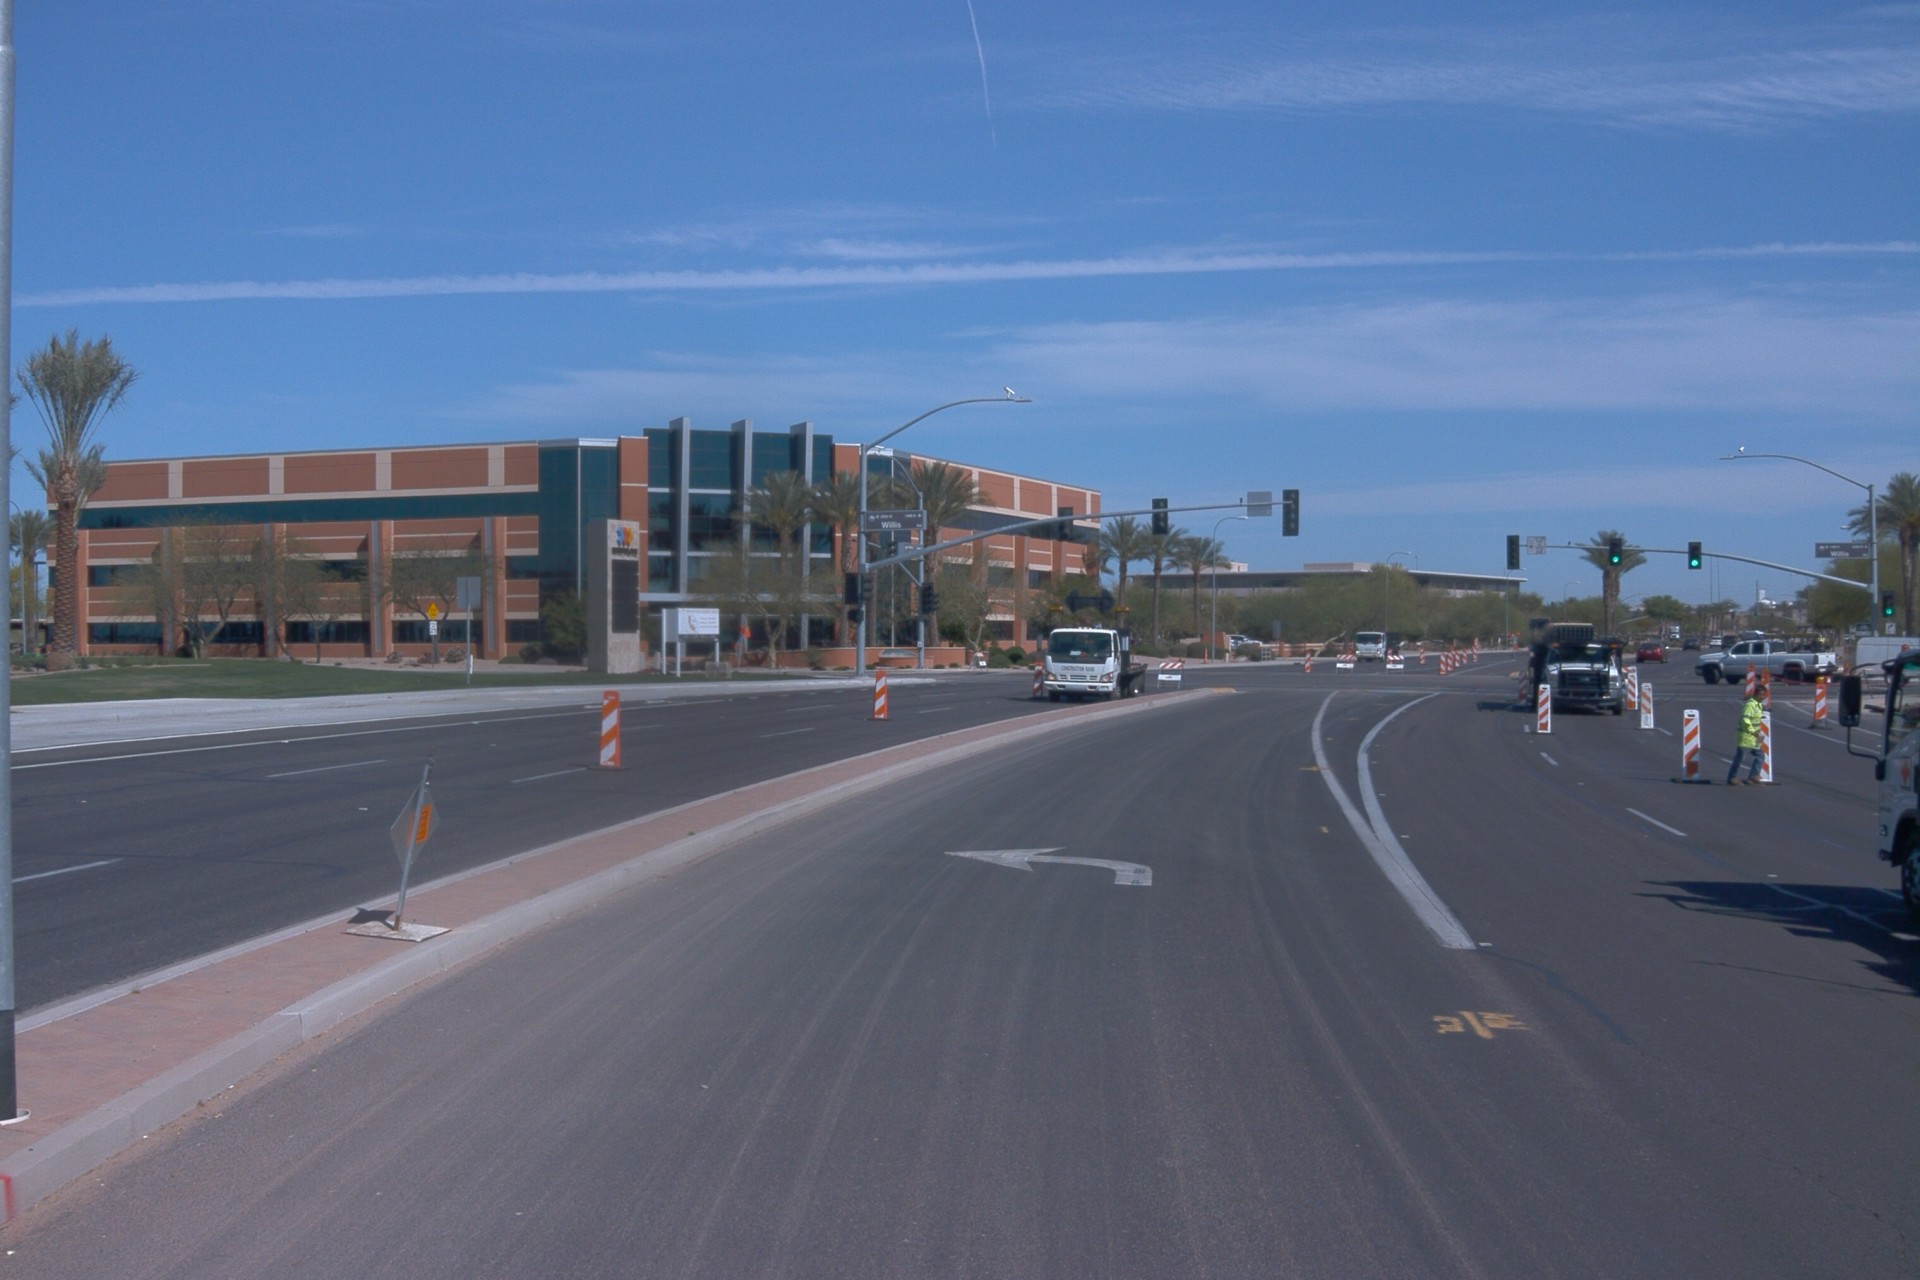TYPE_PEDESTRIAN: (1726, 683, 1770, 786)
TYPE_VEHICLE: (1824, 633, 1920, 934), (1520, 618, 1629, 723), (1041, 620, 1152, 704), (1688, 630, 1840, 691), (1840, 633, 1920, 697), (1351, 629, 1403, 664), (1632, 638, 1672, 665), (1222, 633, 1263, 651), (1680, 636, 1704, 655), (1720, 631, 1744, 650), (1707, 633, 1724, 652), (1669, 625, 1683, 643), (1515, 663, 1522, 683)
